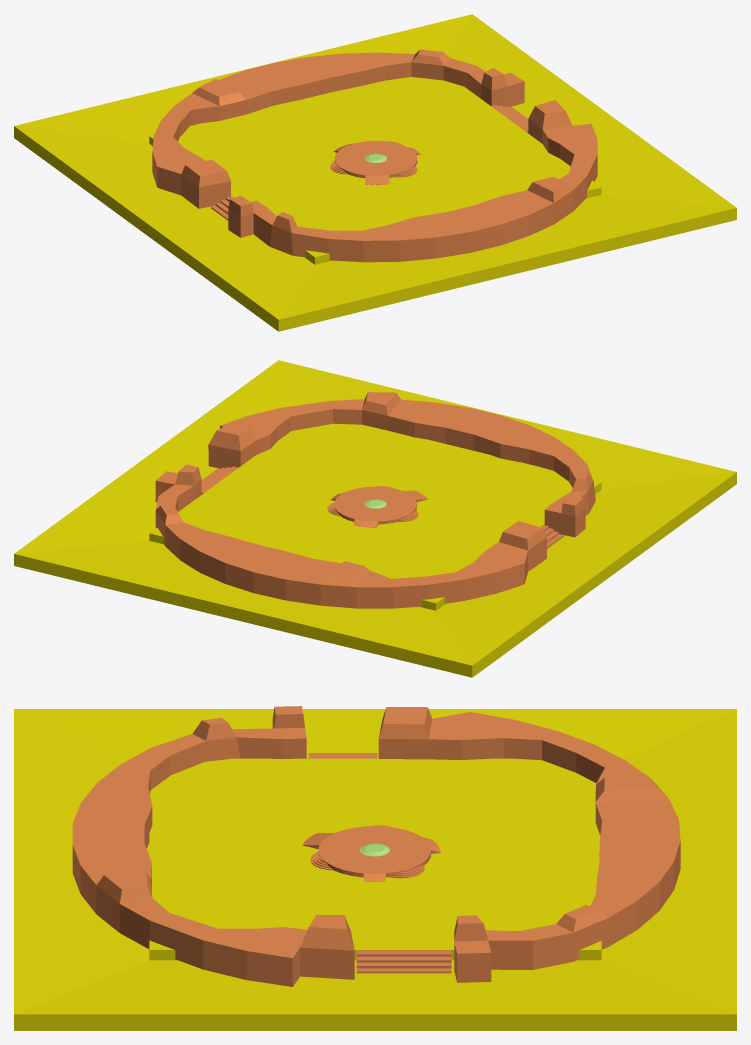
Rendered from F_Podłoże mapy.fbx.
The picture shows the model from 3 angles, top to bottom: view 1: azimuth 30°, elevation 25°; view 2: azimuth 150°, elevation 25°; view 3: azimuth 270°, elevation 25°; orthographic projection. The views are drawn at different scales.
Visible parts, largest first — view 1: F_pustynia.001, Plane, F_kamienny_podest.001; view 2: F_pustynia.001, Plane, F_kamienny_podest.001; view 3: F_pustynia.001, Plane, F_kamienny_podest.001, F_schody_01.001.
Part boxes in pixels (bbox=[...]): F_pustynia.001: bbox=[14, 14, 736, 331]; Plane: bbox=[152, 49, 597, 262]; F_kamienny_podest.001: bbox=[333, 141, 420, 184]; F_pustynia.001: bbox=[14, 360, 736, 677]; Plane: bbox=[155, 392, 595, 608]; F_kamienny_podest.001: bbox=[331, 486, 427, 527]; F_pustynia.001: bbox=[14, 709, 736, 1030]; Plane: bbox=[72, 706, 680, 986]; F_kamienny_podest.001: bbox=[302, 826, 440, 881]; F_schody_01.001: bbox=[356, 950, 451, 973].
Bounding box in the file's own units: 5570 × 526 × 5570.
